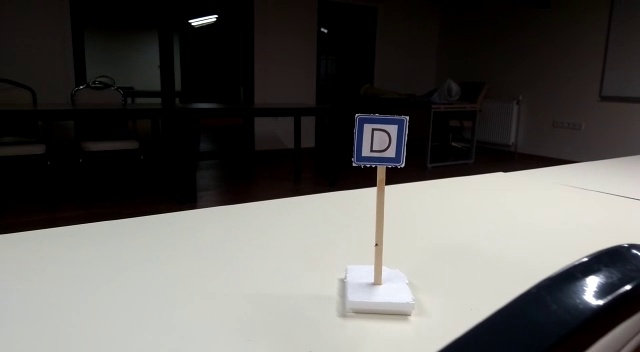durak: (352, 115, 409, 167)
